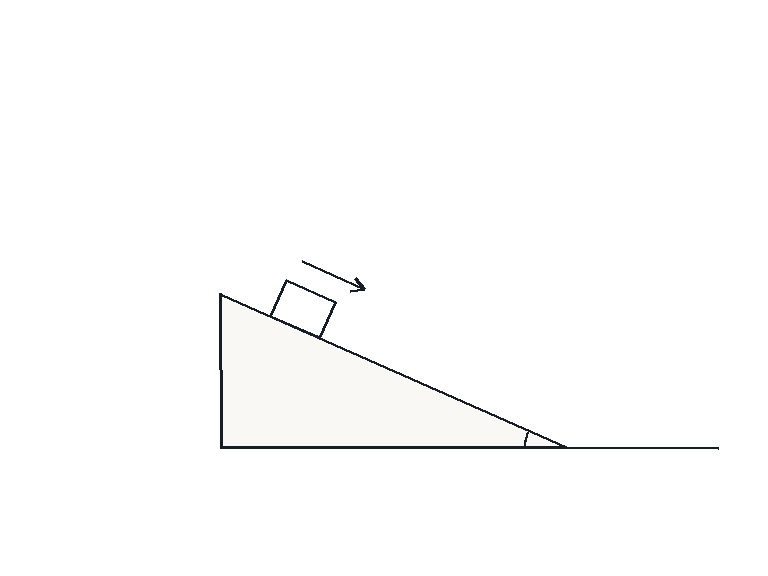block: (268, 278, 337, 340)
ramp: (218, 291, 567, 449)
